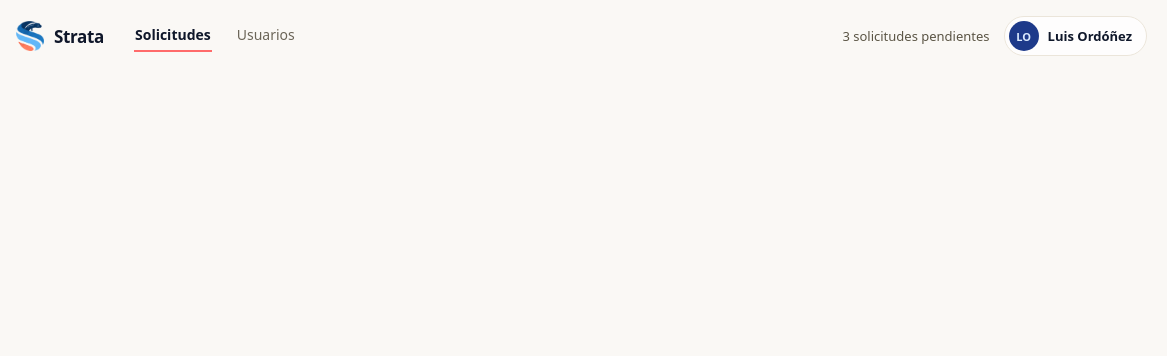
Test: BarraAdmin › pastilla con iniciales y nombre; menú de operador con Panel de RR. HH. y Sitio público
Step 1. Click the button named "menú de cuenta" → (1075, 36), box [1004,16,1147,56]
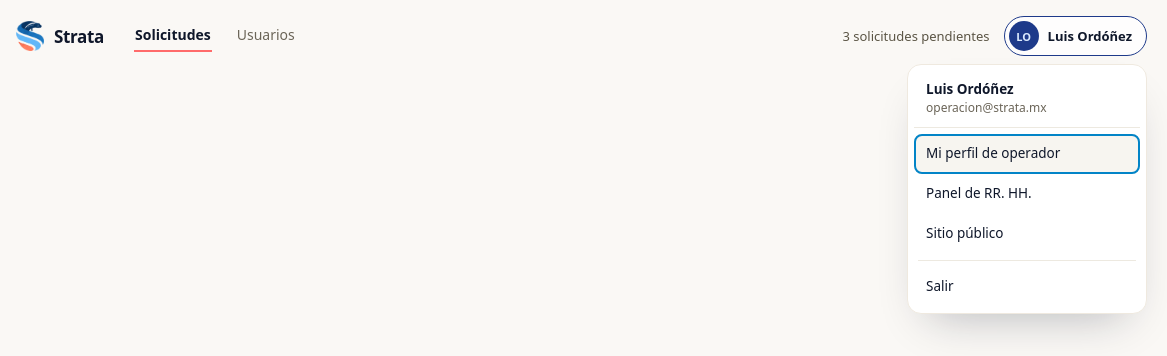
Expected: the menu items read "Mi perfil de operador", "Panel de RR. HH.", "Sitio público", "Salir", in this order, [914,134,1140,174]; [926,184,1032,202]; [926,224,1004,242]; [914,267,1140,307]
